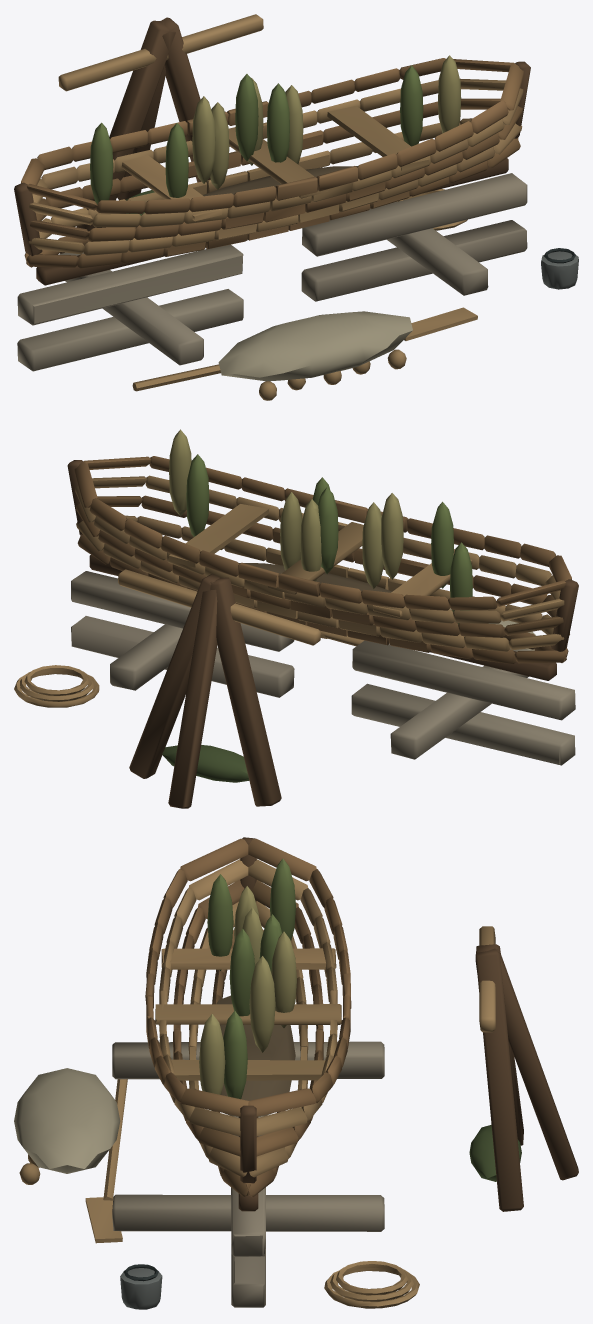
The model's file is skiff_on_blocks_c_lod1.glb.
3 renders of one model, top to bottom at view 1: azimuth 30°, elevation 25°; view 2: azimuth 150°, elevation 25°; view 3: azimuth 270°, elevation 25°, orthographic. The views are drawn at different scales.
Parts seen in each view (by area): view 1: Surface.001; view 2: Surface.001; view 3: Surface.001.
Boxes of the visible parts, left/top/right/bottom form: Surface.001: left=14, top=14, right=578, bottom=400; Surface.001: left=14, top=429, right=578, bottom=808; Surface.001: left=14, top=837, right=578, bottom=1309.
Size of the model in its own units: 7.93 by 3.43 by 6.86.
